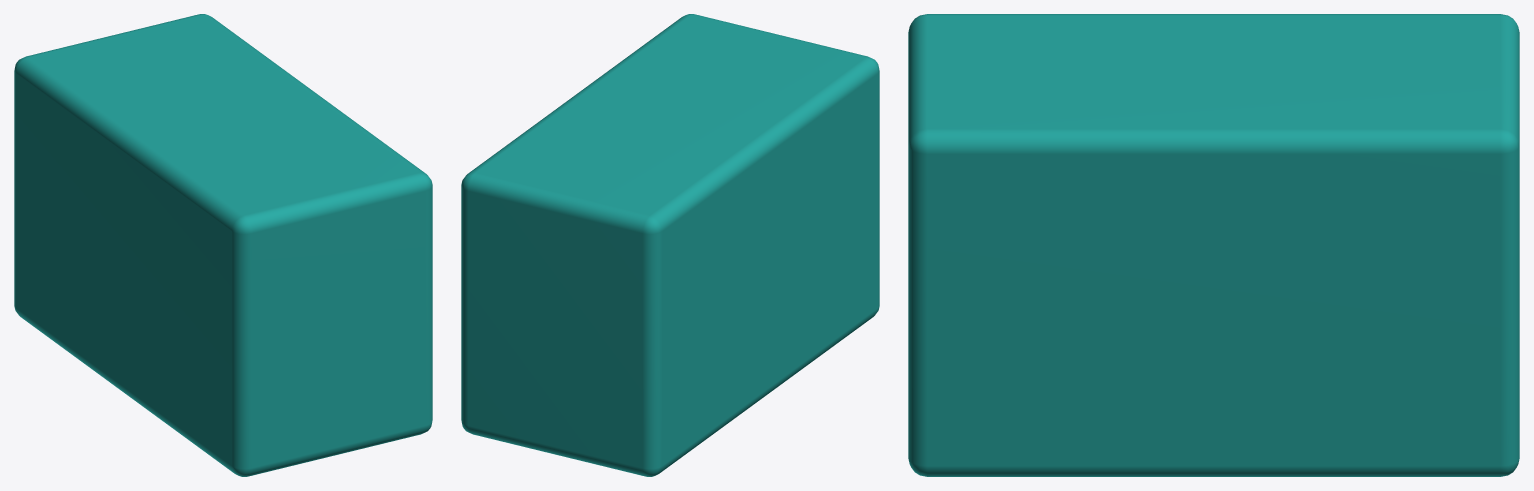
File: demo-block.glb
3 renders of one model, left to right at view 1: azimuth 30°, elevation 25°; view 2: azimuth 150°, elevation 25°; view 3: azimuth 270°, elevation 25°, orthographic. The views are drawn at different scales.
Visible parts, largest first — view 1: robobuild-demo-block; view 2: robobuild-demo-block; view 3: robobuild-demo-block.
Boxes of the visible parts, box(x1,y1,x2,y2) form: robobuild-demo-block: box(14, 14, 432, 476); robobuild-demo-block: box(461, 14, 879, 476); robobuild-demo-block: box(908, 14, 1519, 476).
Size of the model in its own units: 0.016 by 0.02 by 0.032.
